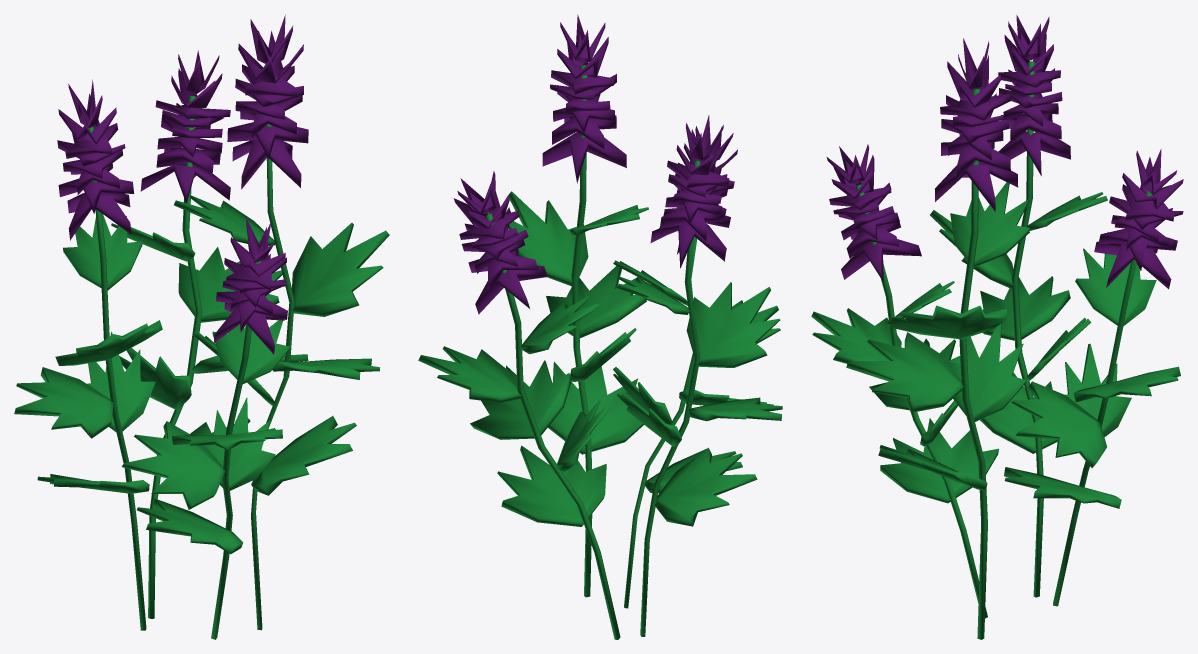
Rendered from RampingFumitoryCluster.fbx.
3 views of the same model, side by side, from view 1: azimuth 30°, elevation 25°; view 2: azimuth 150°, elevation 25°; view 3: azimuth 270°, elevation 25° (orthographic). The views are drawn at different scales.
Parts seen in each view (by area): view 1: RampingFumitoryCluster; view 2: RampingFumitoryCluster; view 3: RampingFumitoryCluster.
Boxes of the visible parts, <box> form: RampingFumitoryCluster: <box>14,14,389,639</box>; RampingFumitoryCluster: <box>418,14,782,639</box>; RampingFumitoryCluster: <box>811,15,1183,639</box>.
Size of the model in its own units: 0.8079 by 1.41 by 0.7962.
